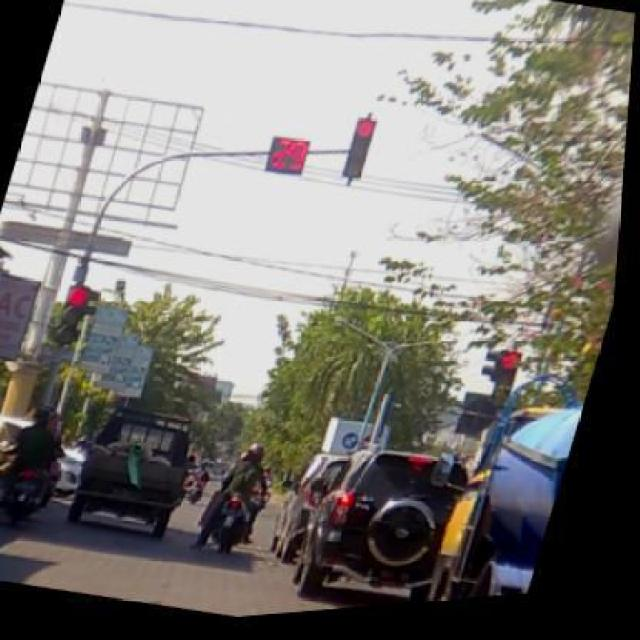Traffic Light -Red-: (52, 286, 91, 351), (496, 354, 530, 428), (340, 117, 375, 181)
